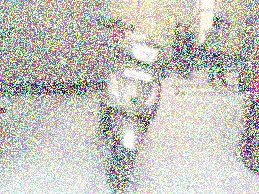Vehicle: (86, 12, 172, 192)
